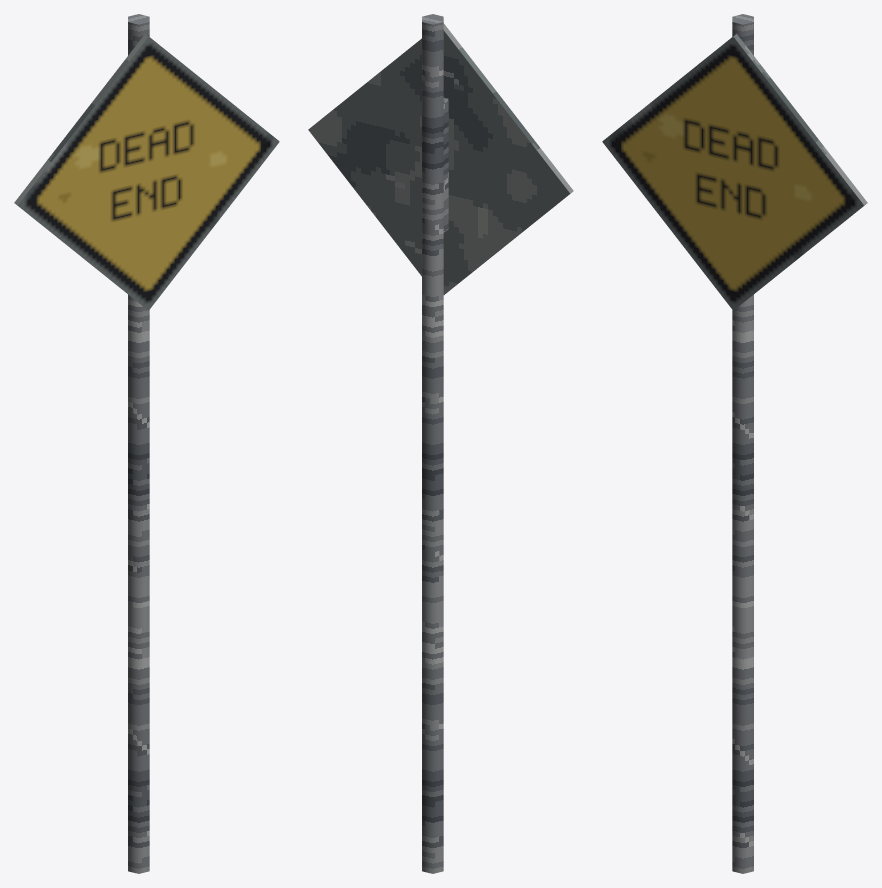
File: SP_Sign_DeadEnd.obj
3 renders of one model, left to right at view 1: azimuth 30°, elevation 25°; view 2: azimuth 150°, elevation 25°; view 3: azimuth 330°, elevation 25°, orthographic.
Parts seen in each view (by area): view 1: SP_Sign_DeadEnd_Mesh_M_Town_SignAtlas, SP_Sign_DeadEnd_Mesh_M_Furn_MetalBrushed, SP_Sign_DeadEnd_Mesh_M_Com_SignageBacking; view 2: SP_Sign_DeadEnd_Mesh_M_Com_SignageBacking, SP_Sign_DeadEnd_Mesh_M_Furn_MetalBrushed; view 3: SP_Sign_DeadEnd_Mesh_M_Town_SignAtlas, SP_Sign_DeadEnd_Mesh_M_Furn_MetalBrushed, SP_Sign_DeadEnd_Mesh_M_Com_SignageBacking.
Part boxes in pixels (bbox=[...]): SP_Sign_DeadEnd_Mesh_M_Town_SignAtlas: bbox=[18, 36, 279, 310]; SP_Sign_DeadEnd_Mesh_M_Furn_MetalBrushed: bbox=[128, 14, 149, 873]; SP_Sign_DeadEnd_Mesh_M_Com_SignageBacking: bbox=[14, 34, 148, 309]; SP_Sign_DeadEnd_Mesh_M_Com_SignageBacking: bbox=[308, 23, 573, 294]; SP_Sign_DeadEnd_Mesh_M_Furn_MetalBrushed: bbox=[422, 14, 448, 873]; SP_Sign_DeadEnd_Mesh_M_Town_SignAtlas: bbox=[602, 36, 863, 310]; SP_Sign_DeadEnd_Mesh_M_Furn_MetalBrushed: bbox=[732, 14, 753, 873]; SP_Sign_DeadEnd_Mesh_M_Com_SignageBacking: bbox=[733, 34, 867, 309].
Bounding box in the file's own units: 0.84 × 2.6 × 0.0853.
3 materials, 3 textured.
